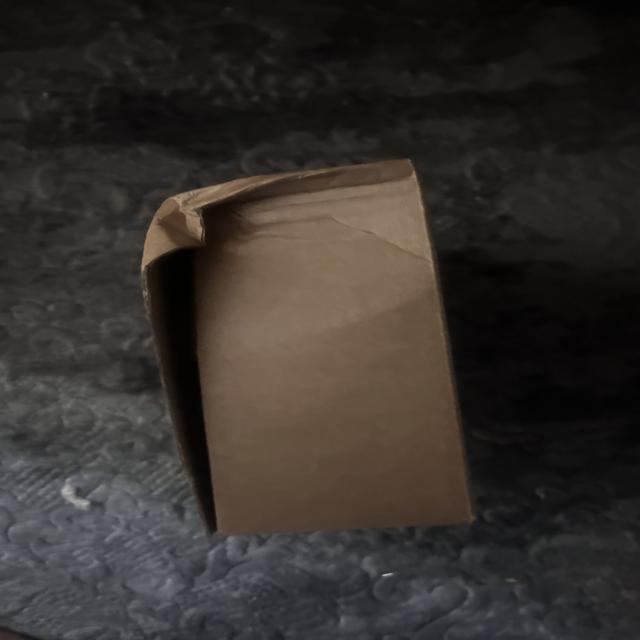damaged: (141, 158, 482, 540), (127, 164, 330, 286)
